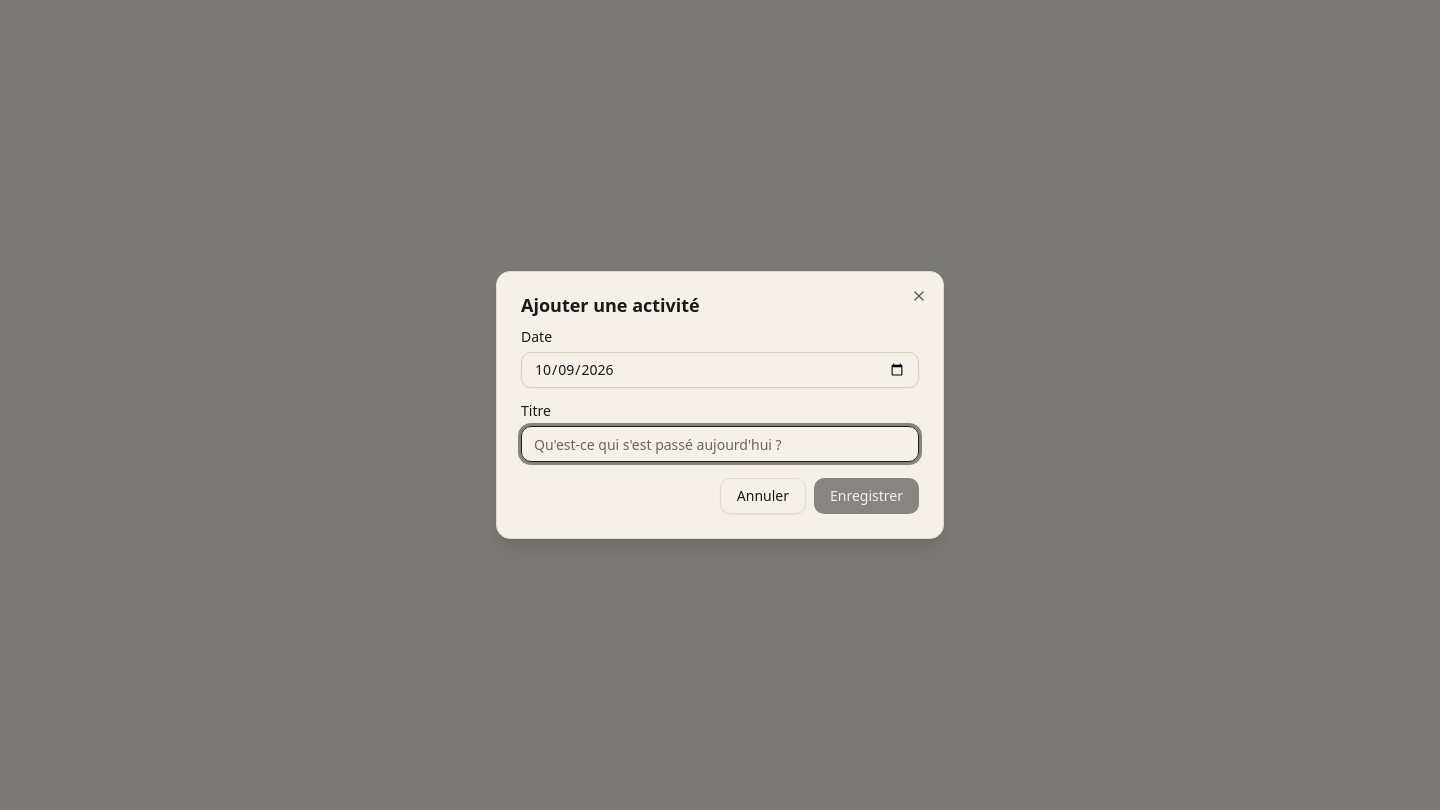
Test: ActivityDialog — save failure › shows the translated message for an API error
Type "Coulage dalle" into the field labelled "Titre" at (720, 444), box [521,426,919,462]
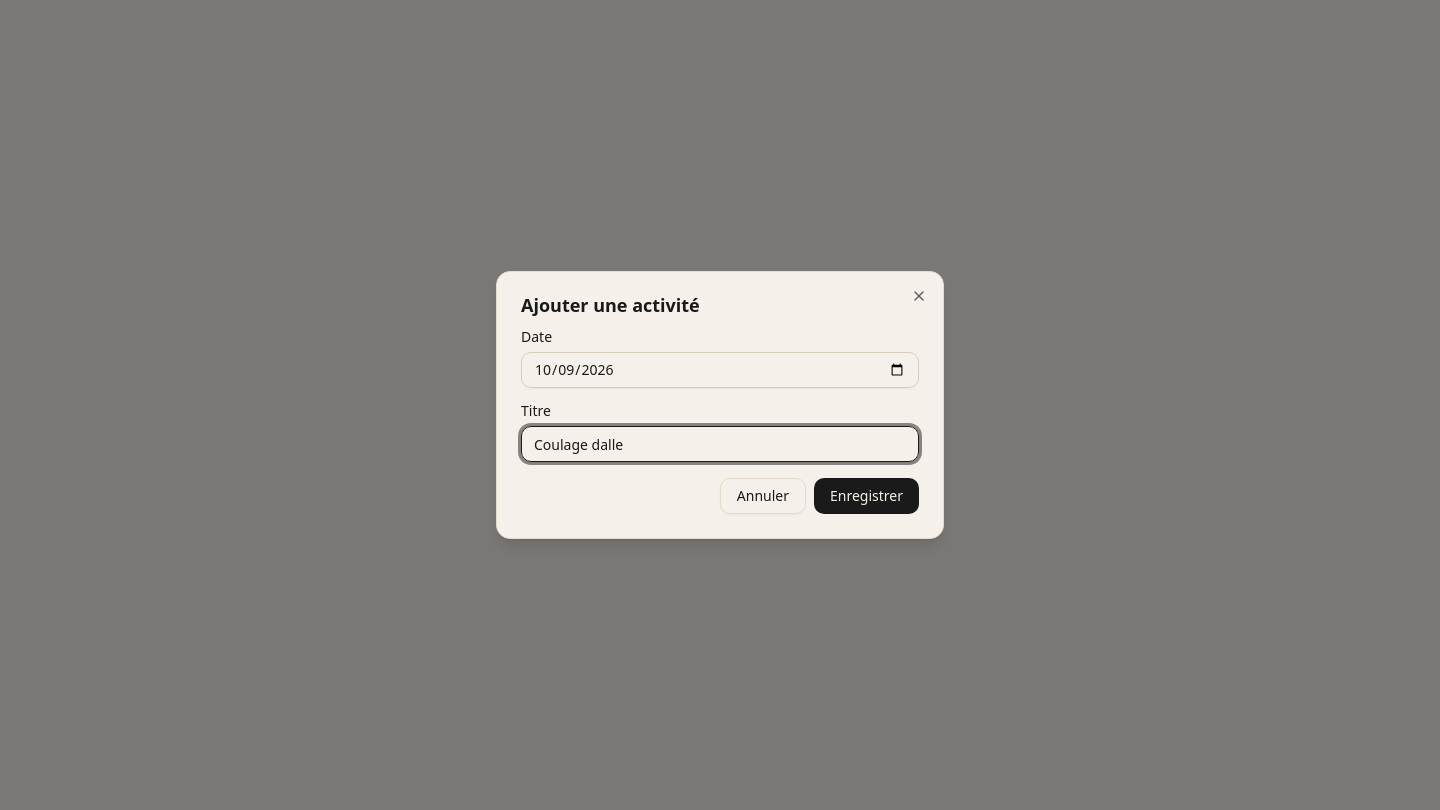
Click the button "Enregistrer" at (866, 496), box [814,478,919,514]
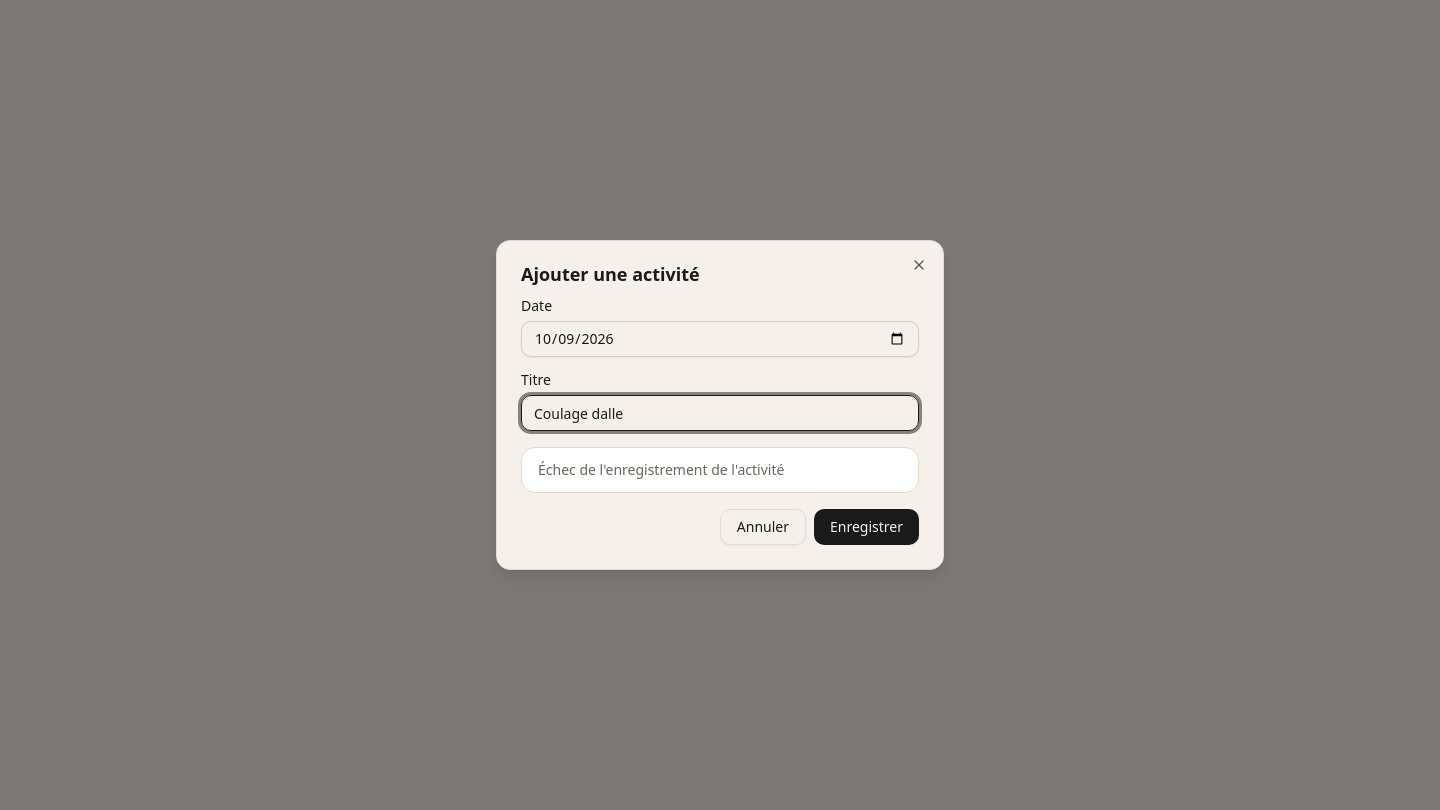
Check: the text "Échec de l'enregistrement de l'activité" is shown, box [538,460,784,479]
